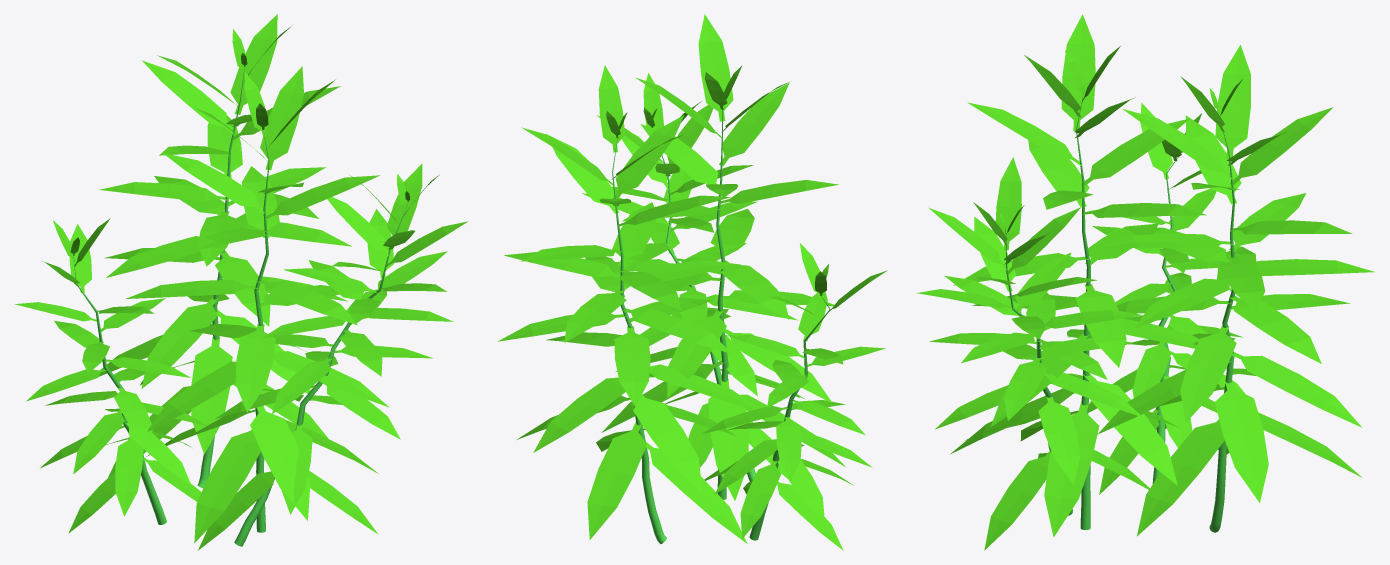
File: Sage.fbx
3 views of the same model, side by side, from view 1: azimuth 30°, elevation 25°; view 2: azimuth 150°, elevation 25°; view 3: azimuth 270°, elevation 25° (orthographic). The views are drawn at different scales.
Visible parts, largest first — view 1: Cube.004, Cube.005, Cube.007, Cube.006; view 2: Cube.005, Cube.004, Cube.006, Cube.007; view 3: Cube.005, Cube.004, Cube.007, Cube.006.
Boxes of the visible parts, bbox=[...] form: Cube.004: bbox=[125, 66, 389, 543]; Cube.005: bbox=[99, 14, 351, 488]; Cube.007: bbox=[198, 163, 467, 550]; Cube.006: bbox=[14, 218, 206, 533]; Cube.005: bbox=[498, 65, 757, 544]; Cube.004: bbox=[601, 14, 845, 500]; Cube.006: bbox=[702, 243, 887, 550]; Cube.007: bbox=[582, 73, 805, 481]; Cube.005: bbox=[1097, 45, 1374, 535]; Cube.004: bbox=[950, 14, 1206, 536]; Cube.007: bbox=[916, 157, 1149, 550]; Cube.006: bbox=[1068, 102, 1245, 494].
Bounding box in the file's own units: 448 × 552 × 458.
